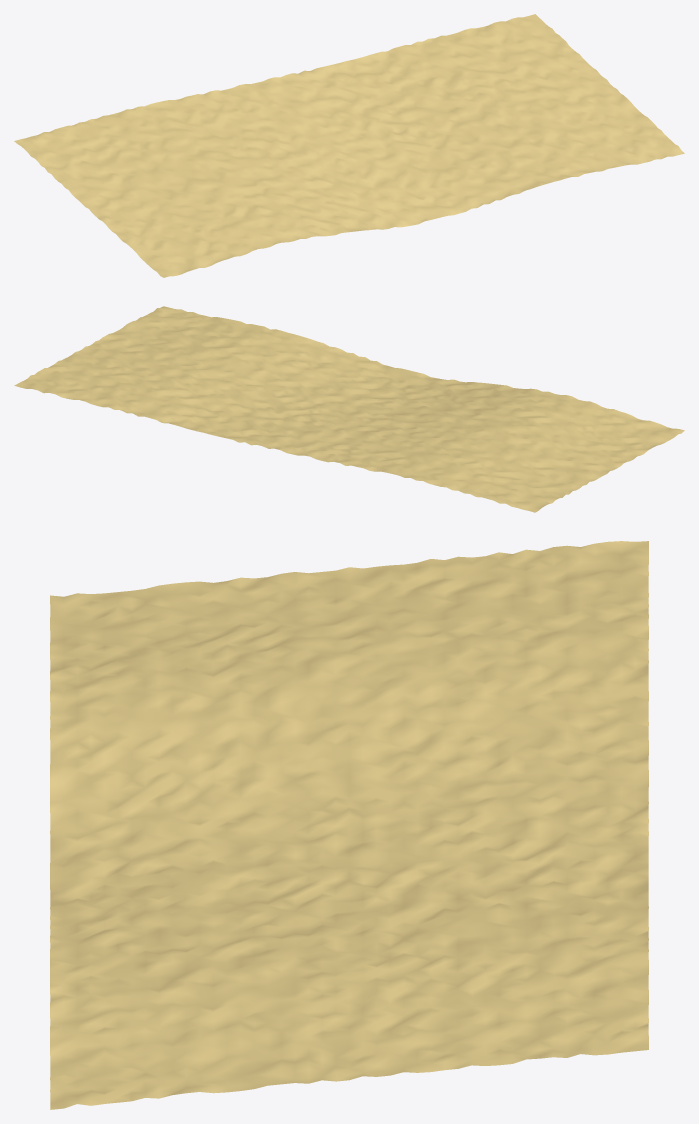
The model's file is Beach.fbx.
3 views of the same model, one above another, from view 1: azimuth 30°, elevation 25°; view 2: azimuth 150°, elevation 25°; view 3: azimuth 270°, elevation 25° (orthographic). The views are drawn at different scales.
Parts seen in each view (by area): view 1: Beach; view 2: Beach; view 3: Beach.
Boxes of the visible parts, x1=… form: Beach: x1=14, y1=14, x2=684, y2=277; Beach: x1=14, y1=306, x2=684, y2=512; Beach: x1=50, y1=541, x2=648, y2=1109.
Size of the model in its own units: 8000 by 590 by 3980.
